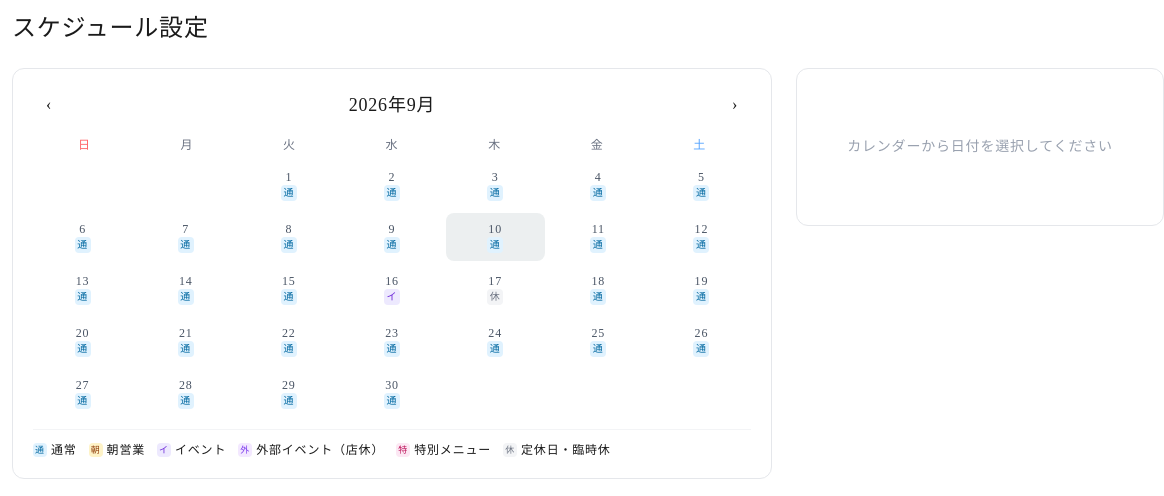
Test: ScheduleCalendar › 日付を選ぶと設定パネルに現在の値を表示し、定例日には「定例に戻す」を出さない
This screenshot has width=1164, height=496.
Click the button "15 通": point(289, 289) [239,265,338,313]
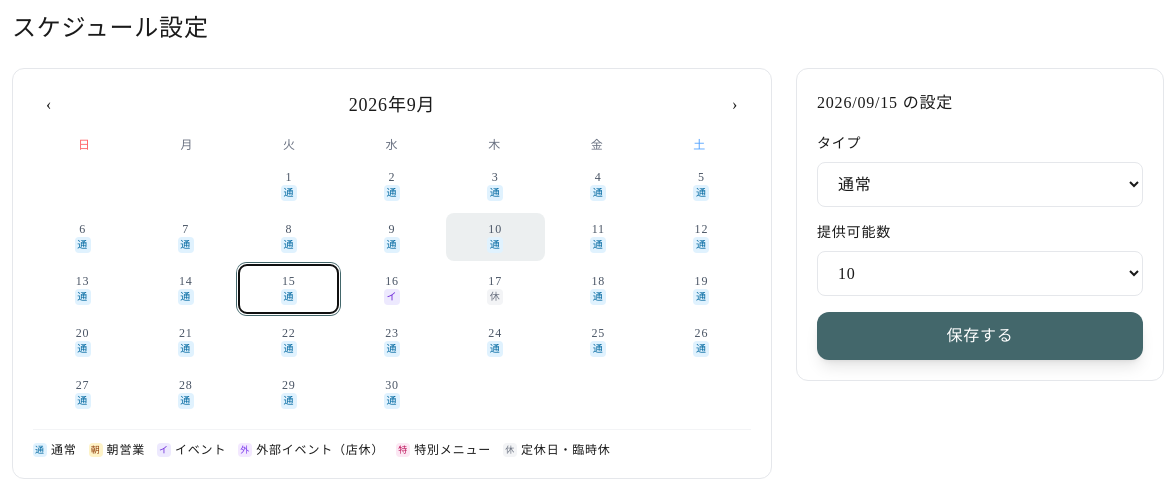
Expected: the heading "2026/09/15 の設定" is shown, [817,94,953,111]
Expected: the dropdown showing "通常" below "タイプ" is shown, [817,162,1143,207]
Expected: the dropdown showing "10" below "提供可能数" is shown, [817,251,1143,296]
